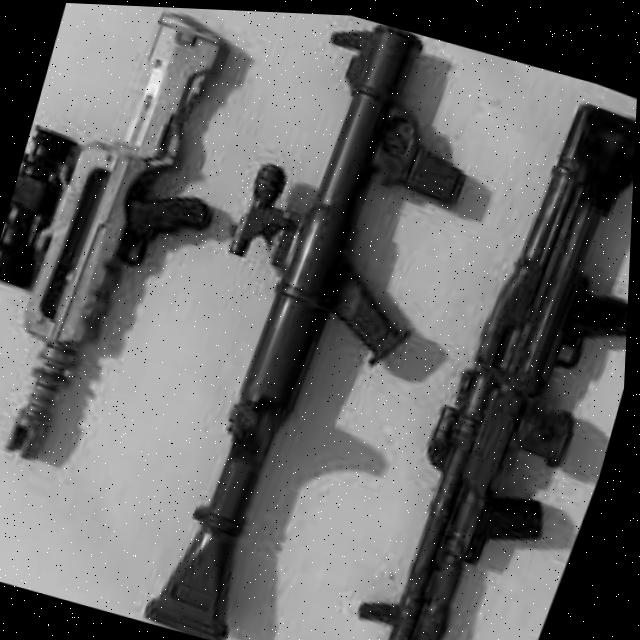rocket: (112, 5, 500, 640)
